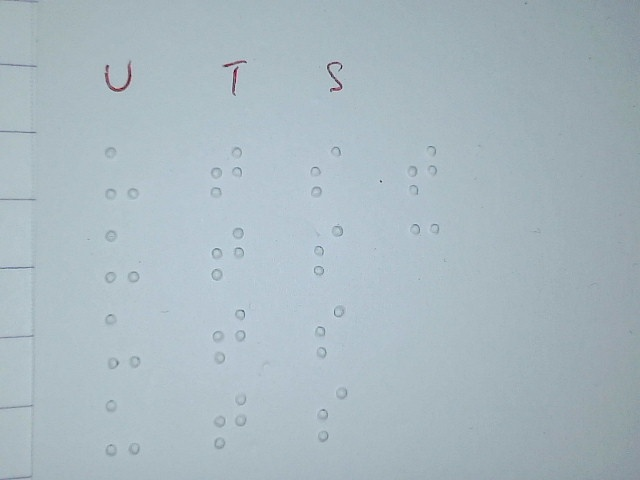S: (315, 385, 349, 442), (313, 304, 347, 360), (308, 145, 343, 198), (311, 223, 346, 276)
T: (212, 392, 247, 449), (210, 226, 245, 282), (212, 307, 247, 363), (209, 145, 244, 198)
U: (104, 312, 141, 370), (104, 397, 141, 455), (103, 228, 141, 283), (104, 146, 142, 200)
